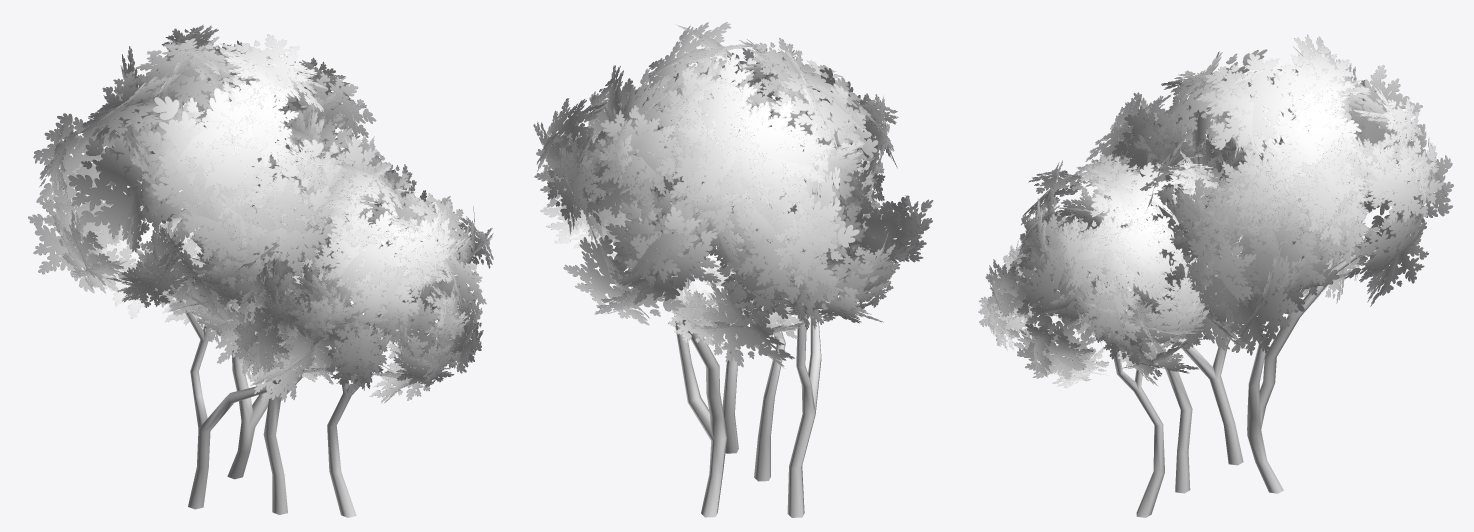
Rendered from bush_02.fbx.
3 renders of one model, left to right at view 1: azimuth 30°, elevation 25°; view 2: azimuth 150°, elevation 25°; view 3: azimuth 270°, elevation 25°, orthographic. The views are drawn at different scales.
Visible parts, largest first — view 1: Plane.059, Cylinder.015; view 2: Plane.059, Cylinder.015; view 3: Plane.059, Cylinder.015.
Part boxes in pixels (x1,y1,x2,y2): Plane.059: (28,24,493,404); Cylinder.015: (137,205,389,517); Plane.059: (533,22,933,367); Cylinder.015: (663,205,852,517); Plane.059: (978,34,1453,388); Cylinder.015: (1109,249,1376,517).
Bounding box in the file's own units: 569 × 657 × 657.
